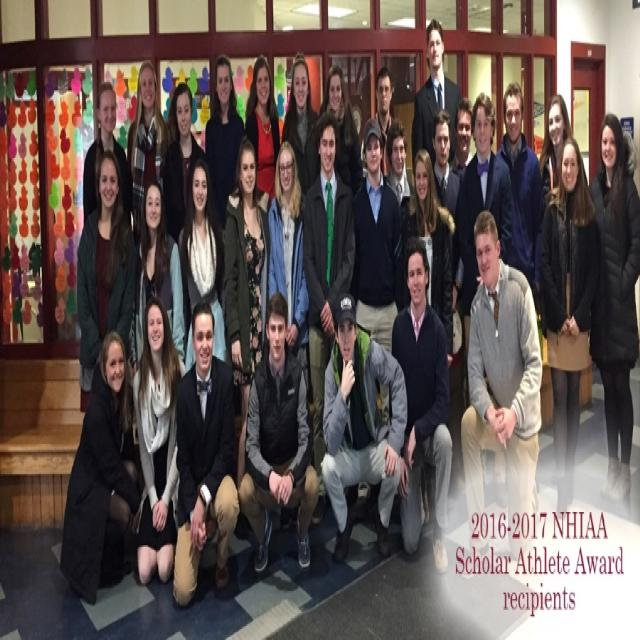body: (82, 82, 325, 640), (459, 209, 544, 564), (538, 136, 601, 521), (319, 290, 408, 562), (236, 291, 320, 574), (301, 109, 357, 528), (58, 330, 142, 607), (387, 235, 453, 576), (172, 297, 241, 608), (587, 111, 640, 507), (223, 132, 270, 502), (132, 294, 188, 586), (76, 147, 137, 414), (456, 90, 516, 321), (398, 147, 457, 370), (266, 139, 315, 406), (537, 90, 589, 340), (351, 118, 401, 360), (495, 80, 545, 313), (134, 175, 188, 381), (178, 158, 226, 365), (410, 17, 462, 177), (125, 60, 167, 243), (204, 54, 247, 230), (161, 81, 207, 245), (279, 52, 322, 198), (319, 64, 364, 194), (245, 52, 281, 202), (359, 65, 403, 185), (428, 106, 463, 226), (385, 118, 417, 224), (448, 95, 474, 182)
